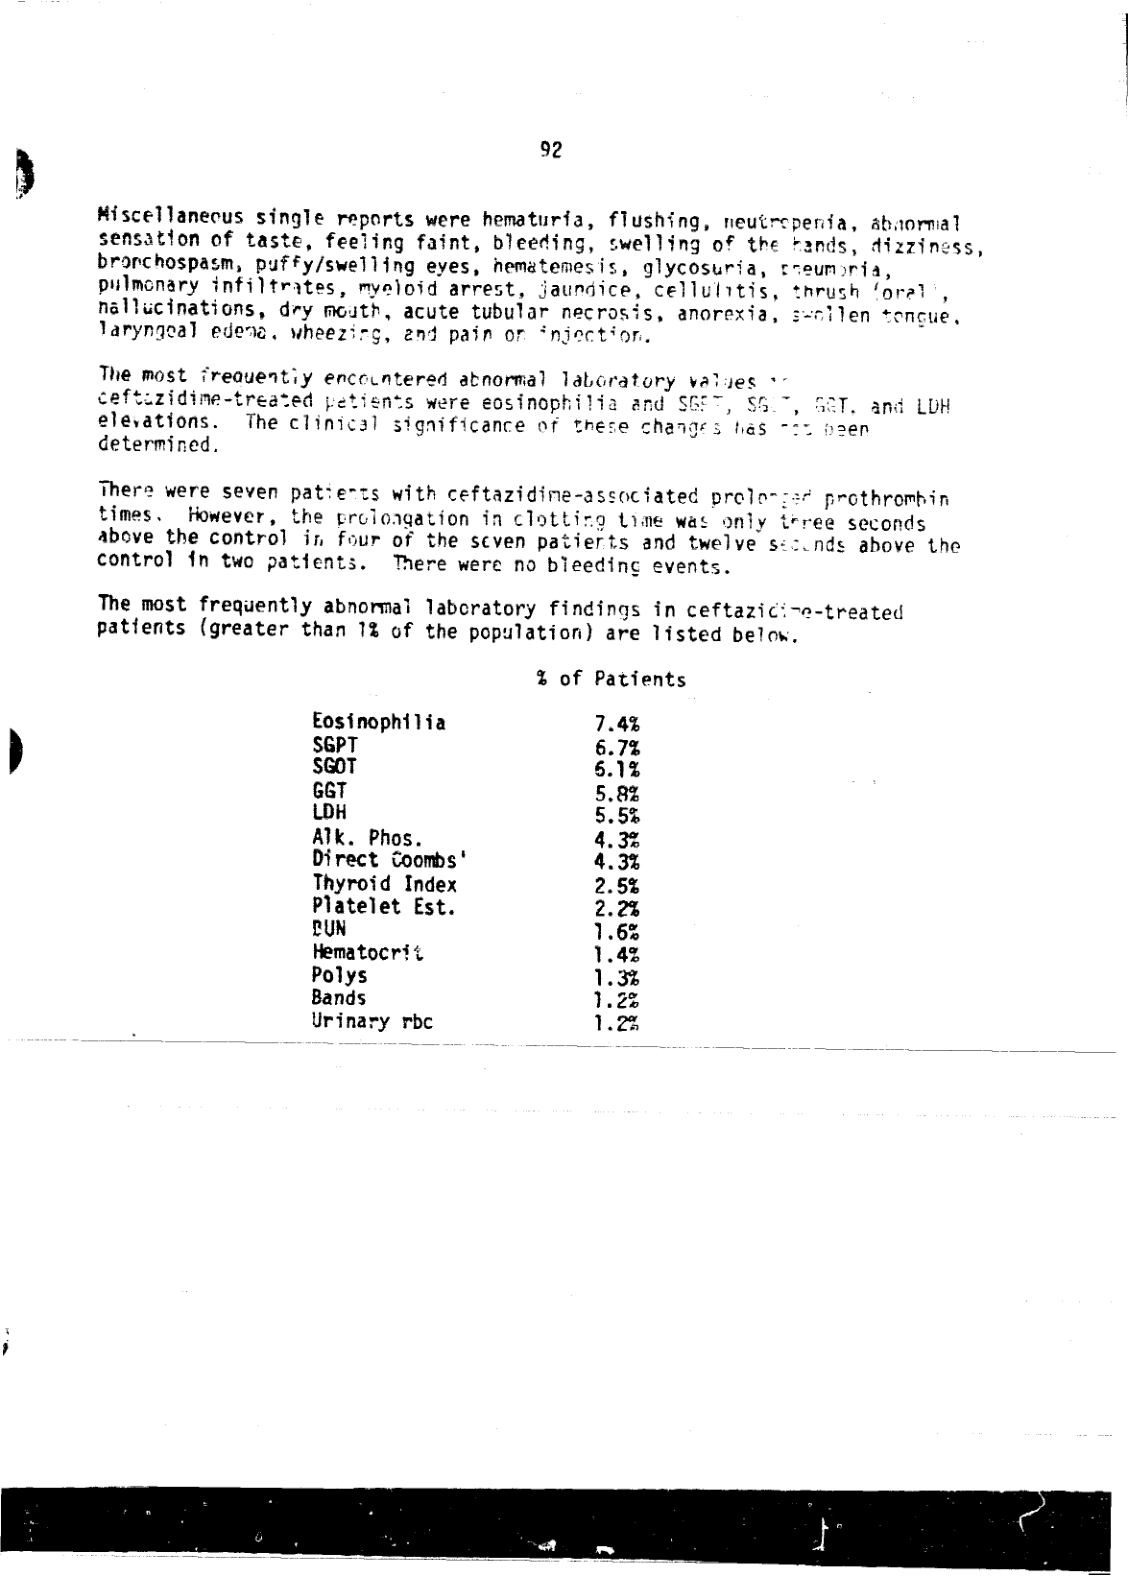nolines: (308, 668, 686, 1040)
